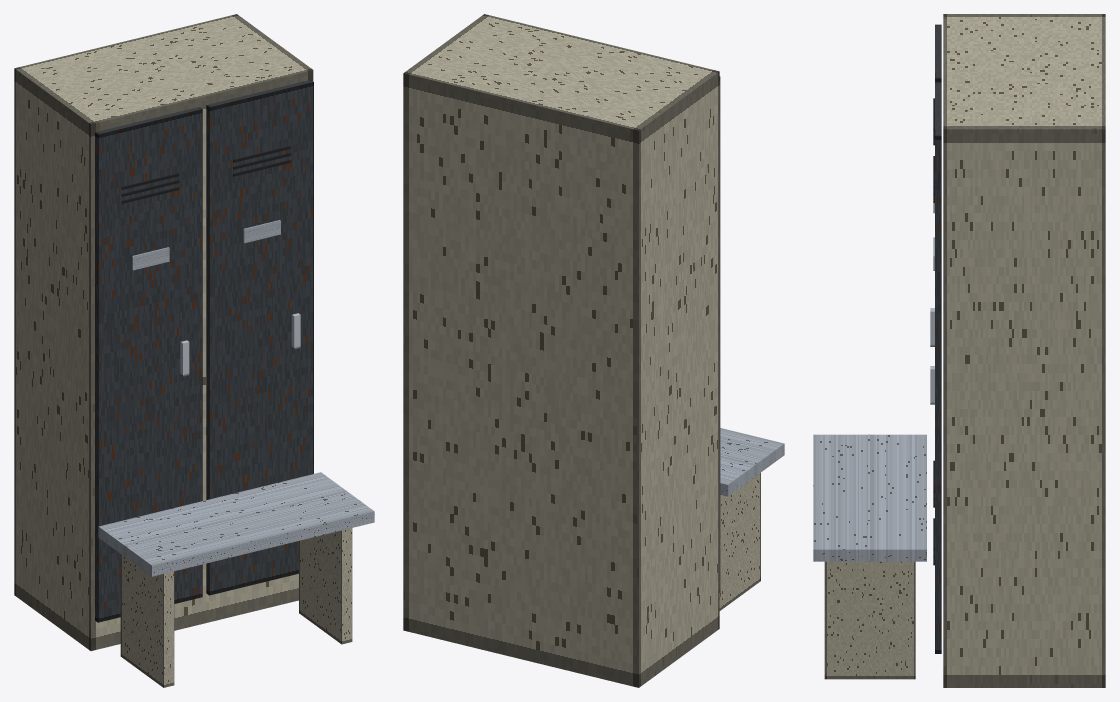
The model's file is locker_habitation_worn.glb.
3 renders of one model, left to right at view 1: azimuth 30°, elevation 25°; view 2: azimuth 150°, elevation 25°; view 3: azimuth 270°, elevation 25°, orthographic. The views are drawn at different scales.
Visible parts, largest first — view 1: locker_habitation_worn; view 2: locker_habitation_worn; view 3: locker_habitation_worn.
Part boxes in pixels (x1,y1,x2,y2): locker_habitation_worn: (14,14,374,687); locker_habitation_worn: (403,14,784,687); locker_habitation_worn: (813,14,1105,687).
Bounding box in the file's own units: 0.84 × 1.9 × 0.9.
6 materials, 6 textured.
